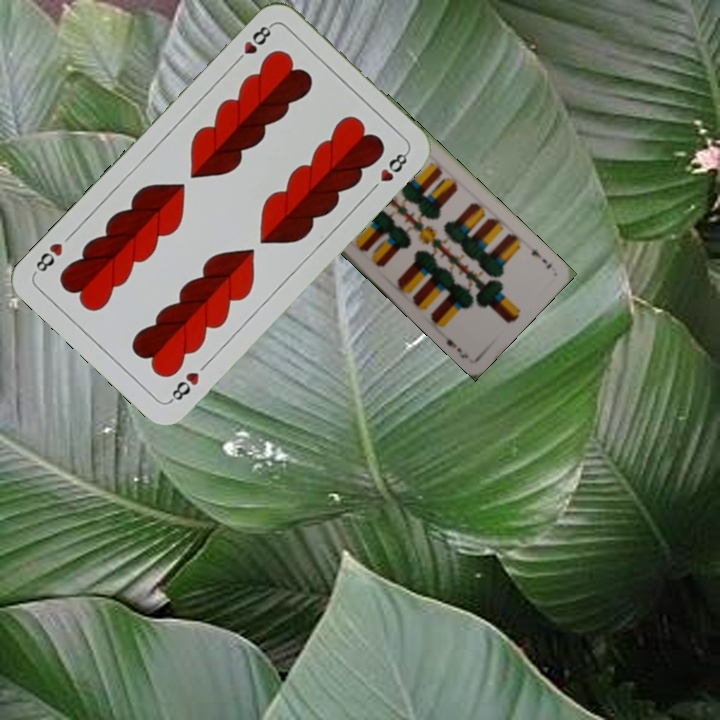E7: (527, 245, 554, 272)
H8: (230, 20, 276, 67), (165, 368, 202, 405)
